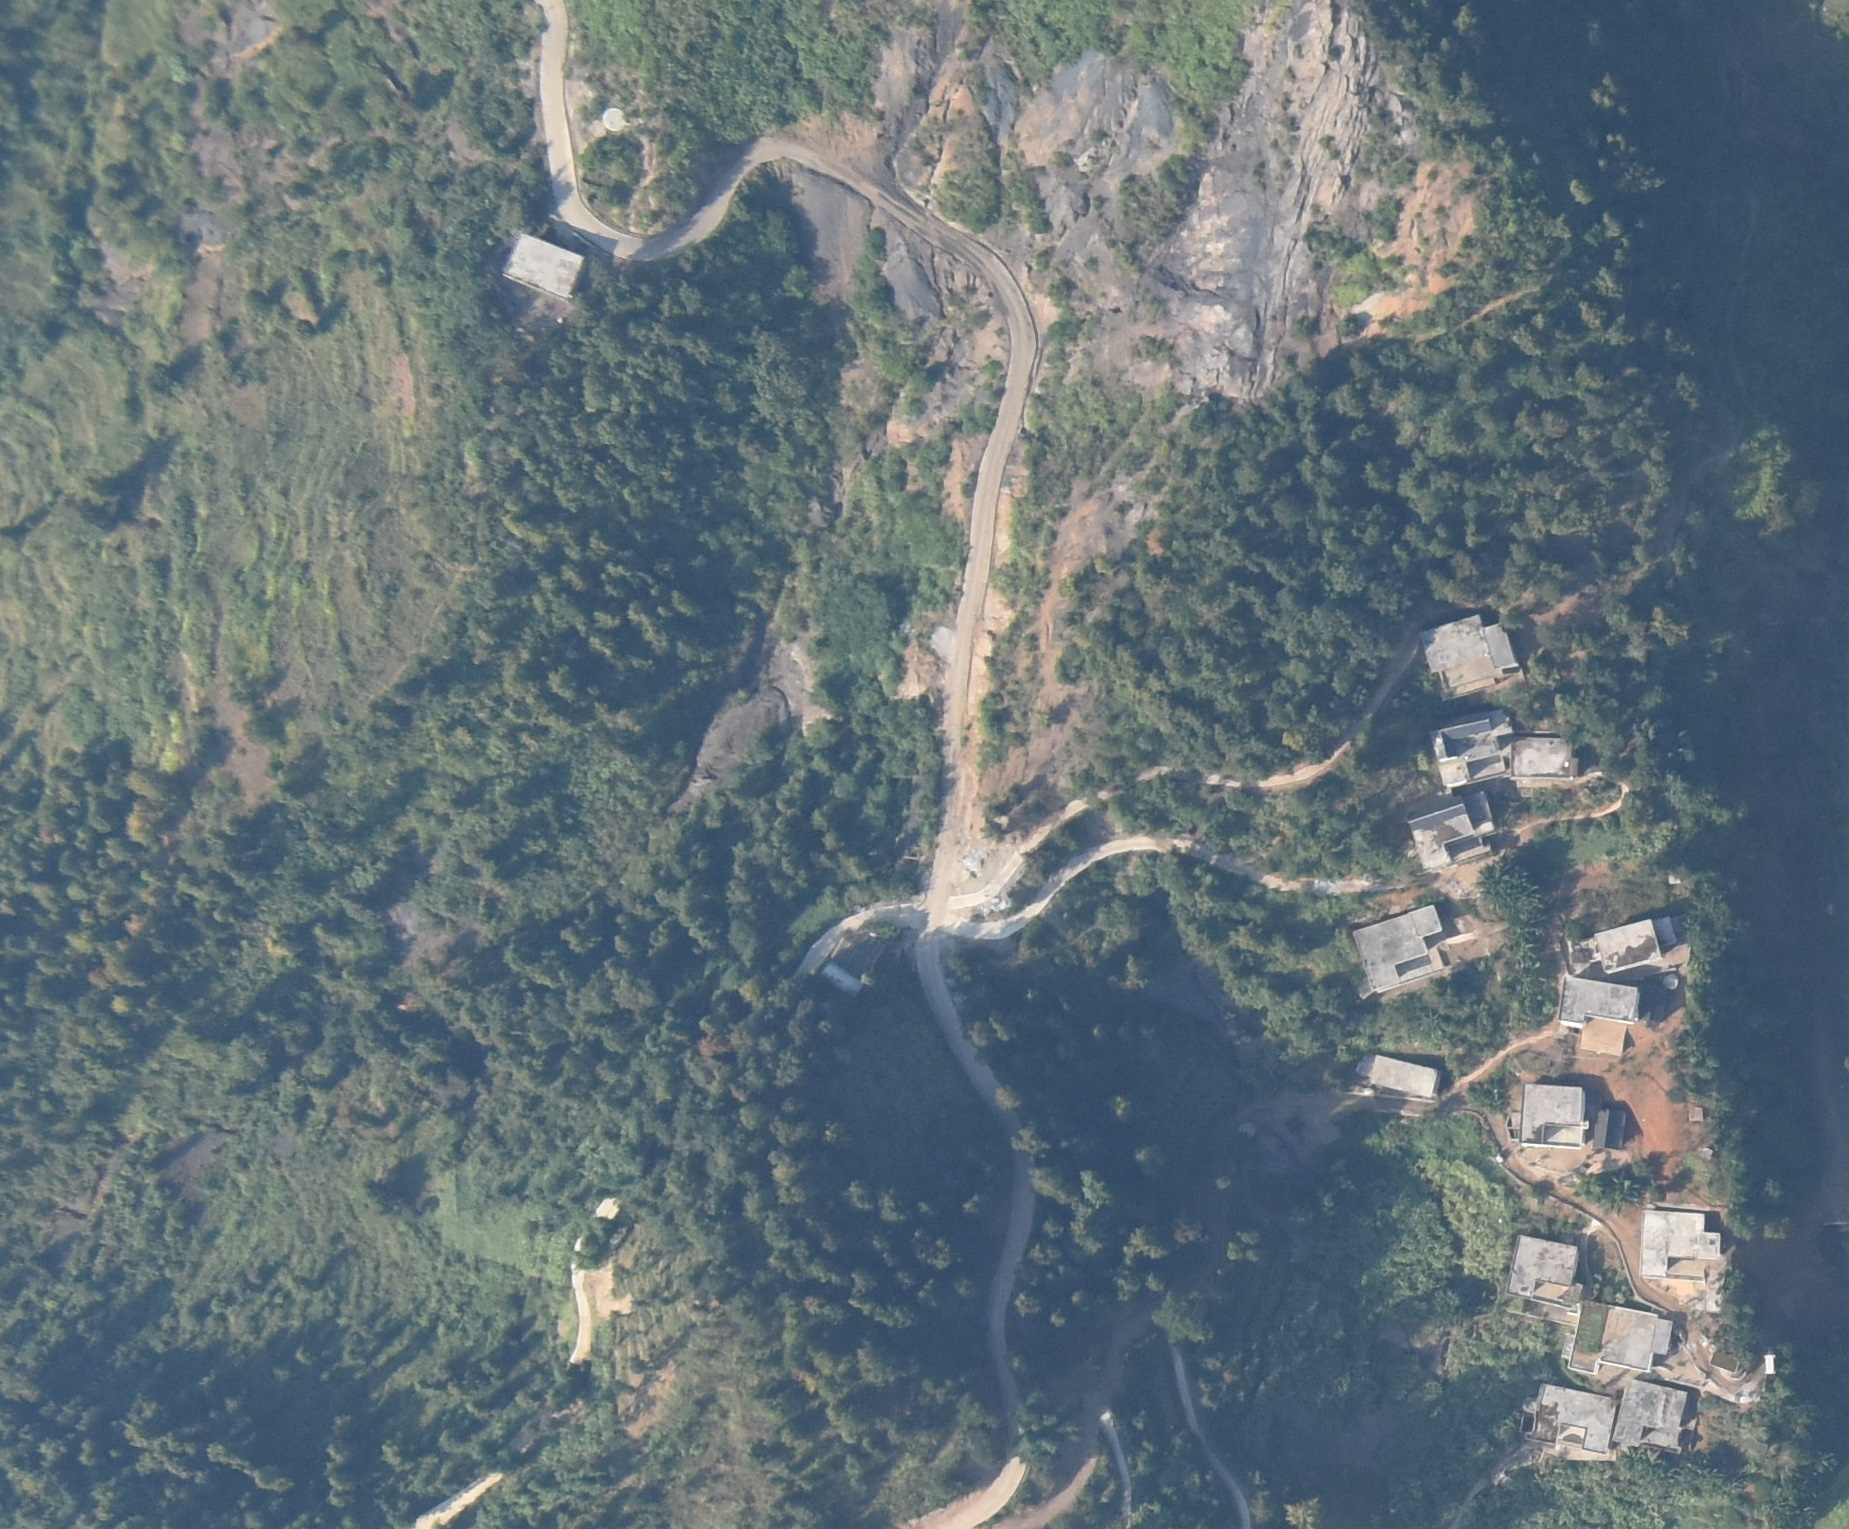building: (1353, 903, 1448, 997), (1418, 617, 1520, 700), (1571, 1303, 1675, 1374), (1521, 1382, 1617, 1455), (1405, 795, 1498, 870), (1641, 1209, 1724, 1285), (1430, 711, 1514, 786), (1507, 1234, 1582, 1316), (1581, 911, 1675, 971), (1616, 1377, 1689, 1454), (504, 232, 586, 298), (1521, 1081, 1587, 1146), (1559, 977, 1639, 1029), (1354, 1055, 1443, 1099), (1511, 729, 1579, 785), (1593, 1108, 1627, 1149), (1709, 1350, 1746, 1374)
prefabricated-house: (820, 936, 882, 995)
well: (601, 107, 628, 133), (1664, 971, 1681, 991)
